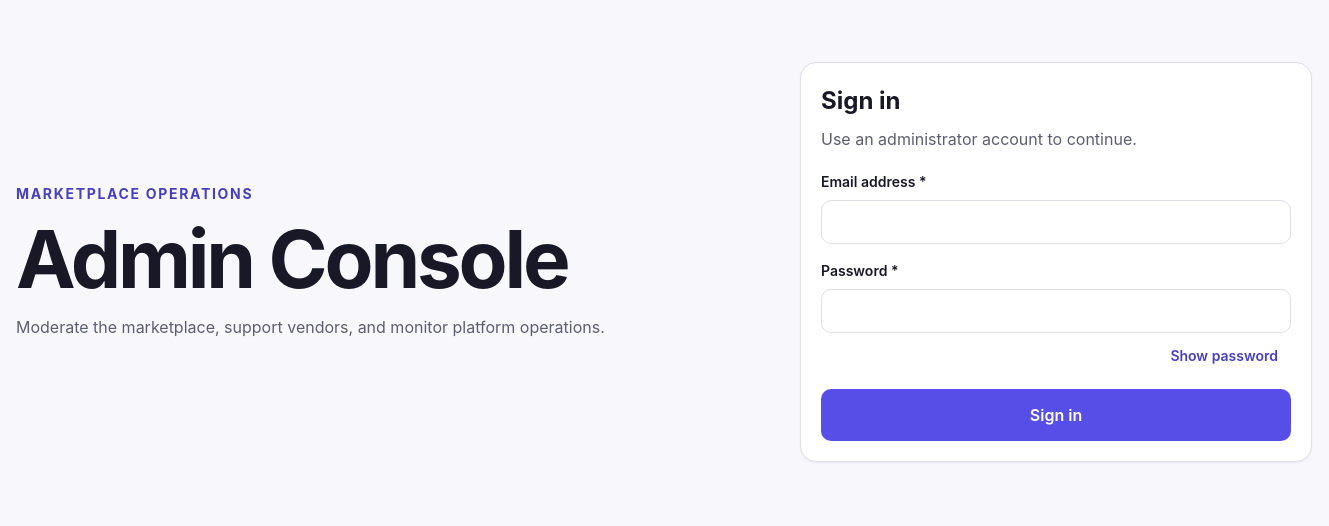
Test: admin browser API behavior with MSW › isolates session restore and maps admin-login field errors
Expected: the button "Sign in" is shown, [821,389,1291,441]
Type "vendor@example.test" into the field labelled "Email address" at {"x": 1056, "y": 222}, box [821,200,1291,244]
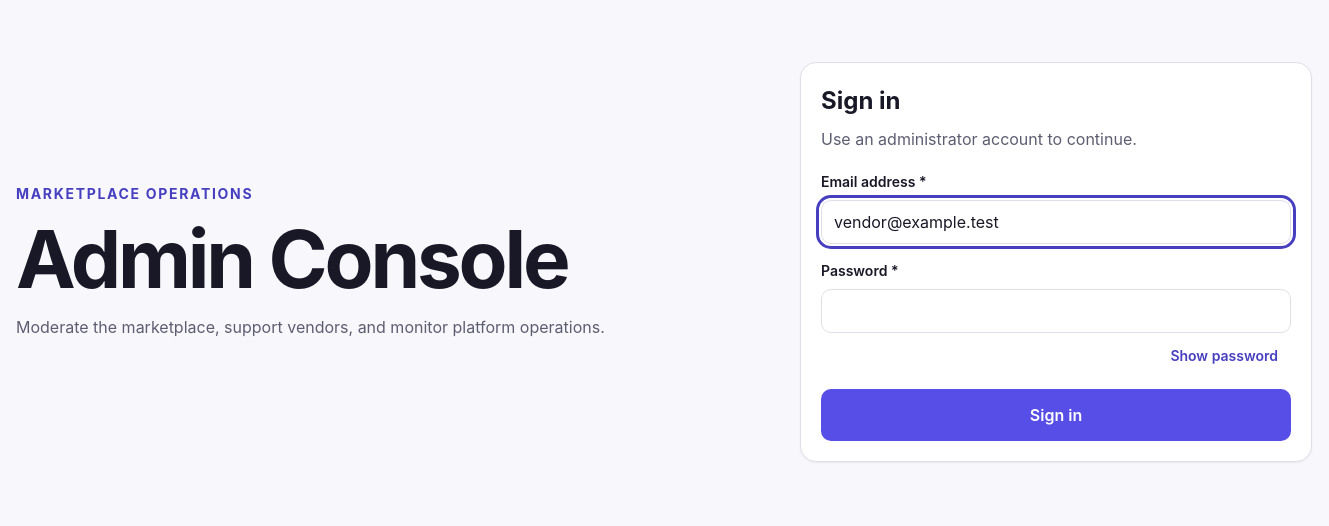
Type "secret123" into the password field labelled "Password *" at {"x": 1056, "y": 311}, box [821,289,1291,333]
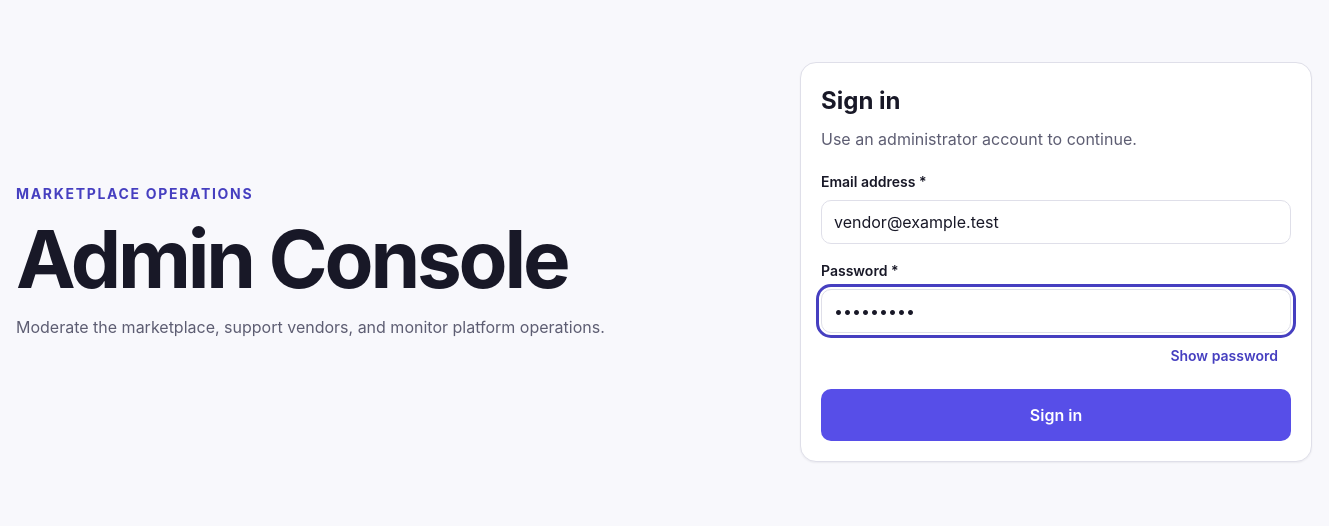
Click the button "Sign in" at {"x": 1056, "y": 415}, box [821,389,1291,441]
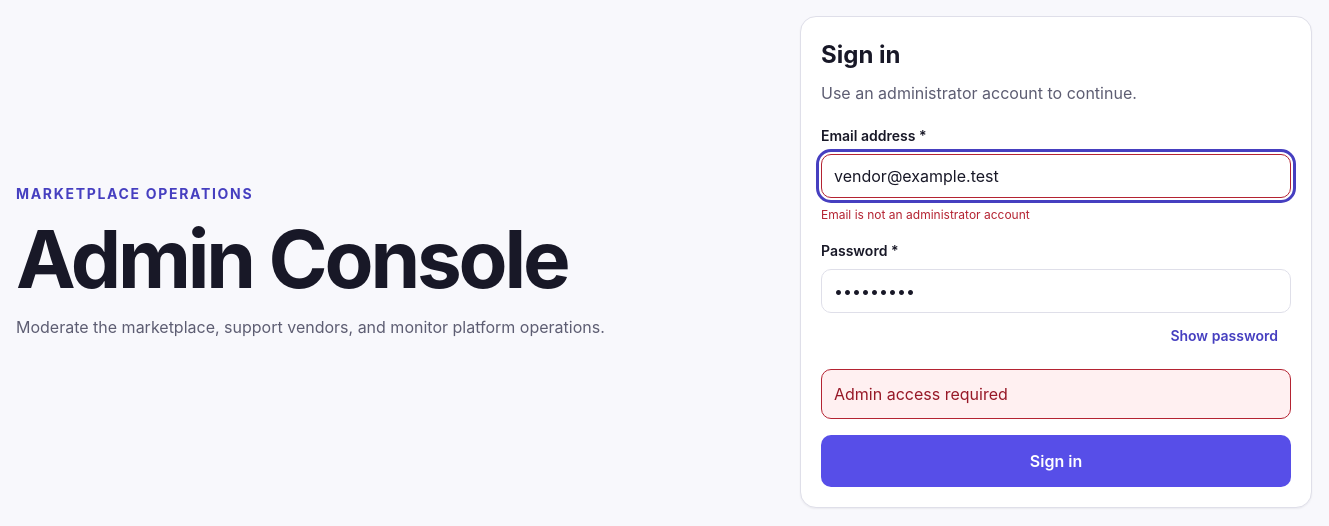
Expected: the text "Email is not an administrator account" is shown, [821,207,1030,222]
Expected: the message reads "Admin access required", [834,384,1008,404]
